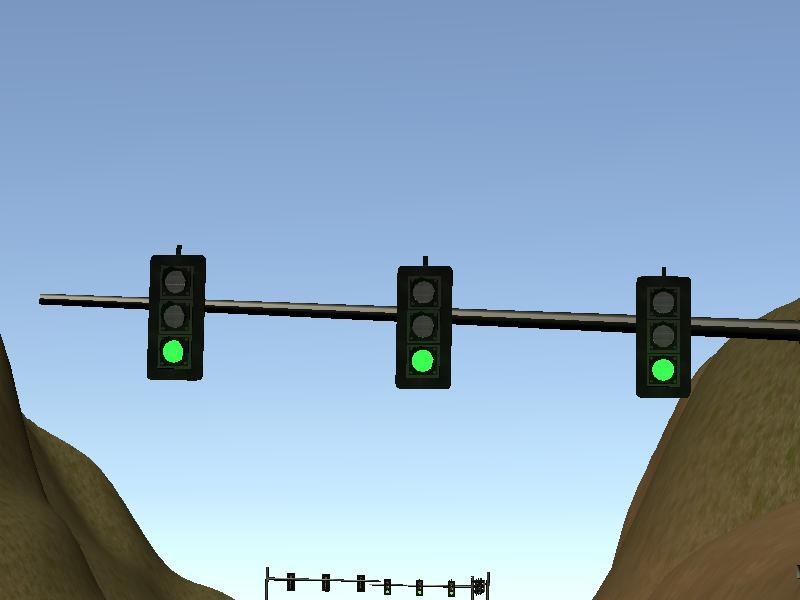GREEN: (148, 254, 206, 380), (396, 266, 453, 389), (634, 275, 691, 398)
